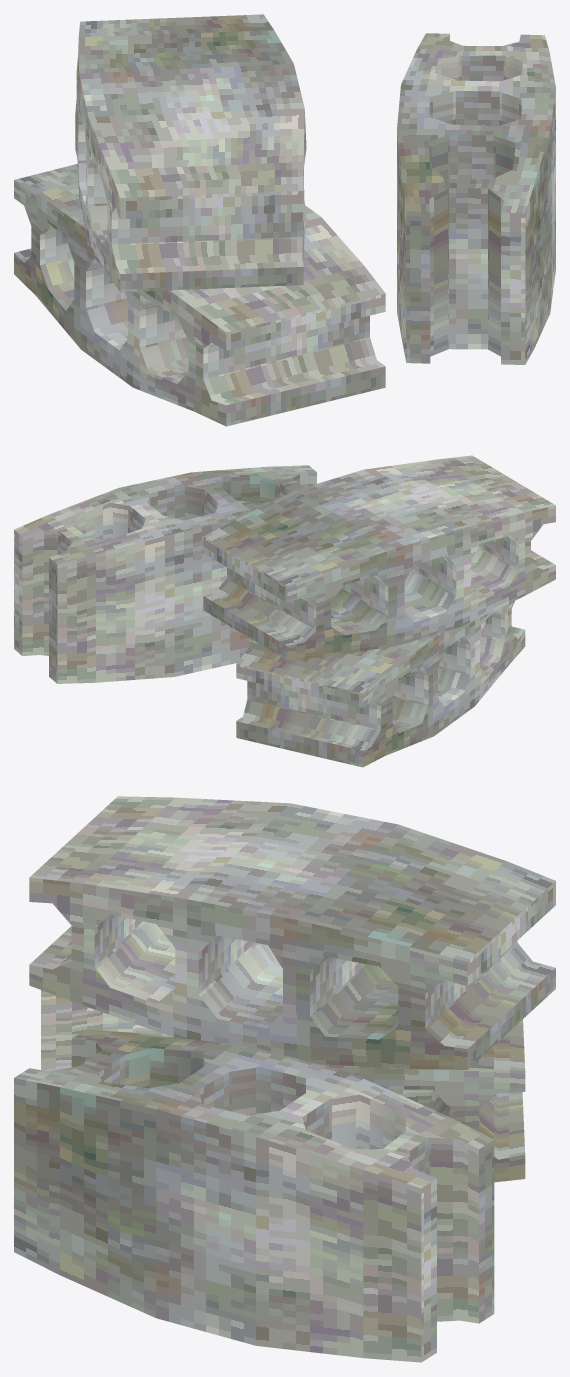
The model's file is mono57_1.glb.
3 views of the same model, one above another, from view 1: azimuth 30°, elevation 25°; view 2: azimuth 150°, elevation 25°; view 3: azimuth 270°, elevation 25° (orthographic). The views are drawn at different scales.
Parts seen in each view (by area): view 1: mono57_1; view 2: mono57_1; view 3: mono57_1.
Part boxes in pixels (x1,y1,x2,y2): mono57_1: [14, 14, 555, 426]; mono57_1: [14, 455, 555, 767]; mono57_1: [14, 796, 555, 1362].
Size of the model in its own units: 192 by 83 by 141.
1 material, 1 textured.
